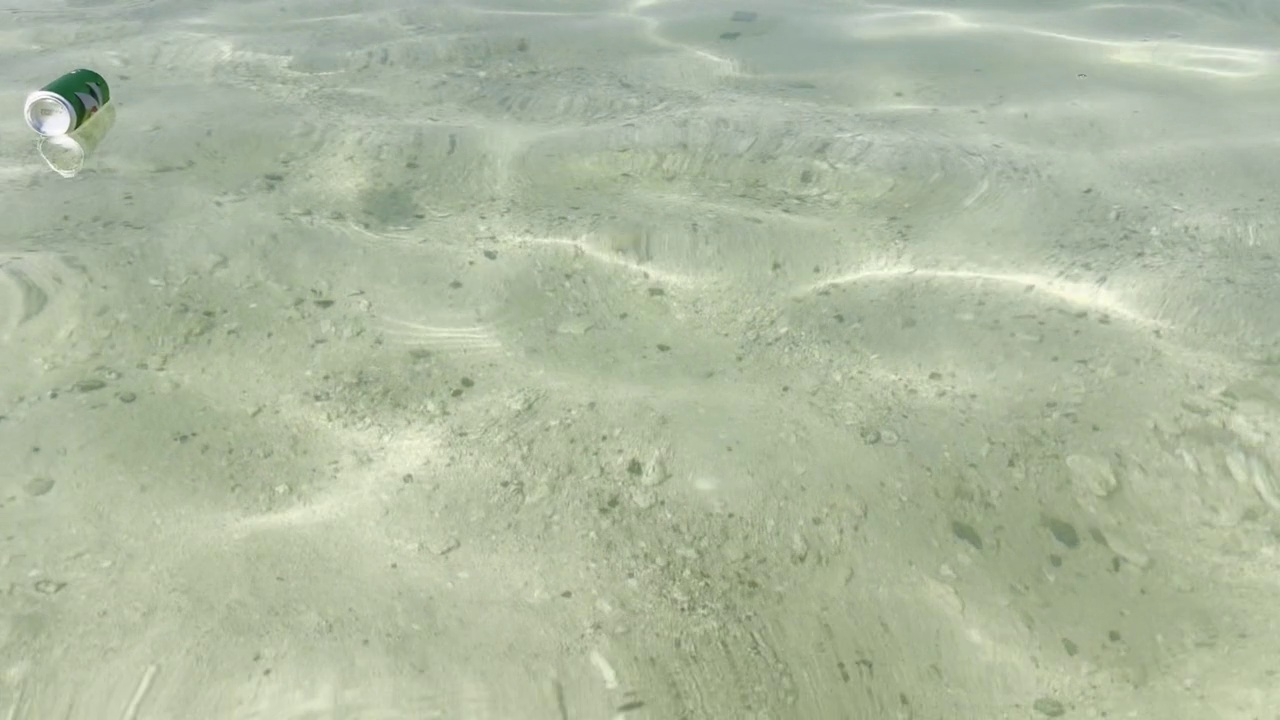debris: (25, 59, 117, 147)
